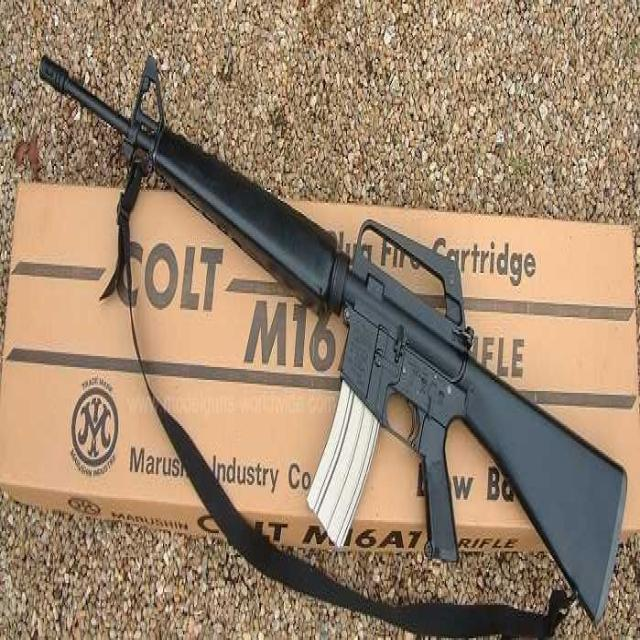heavyweapon: (32, 35, 630, 614)
